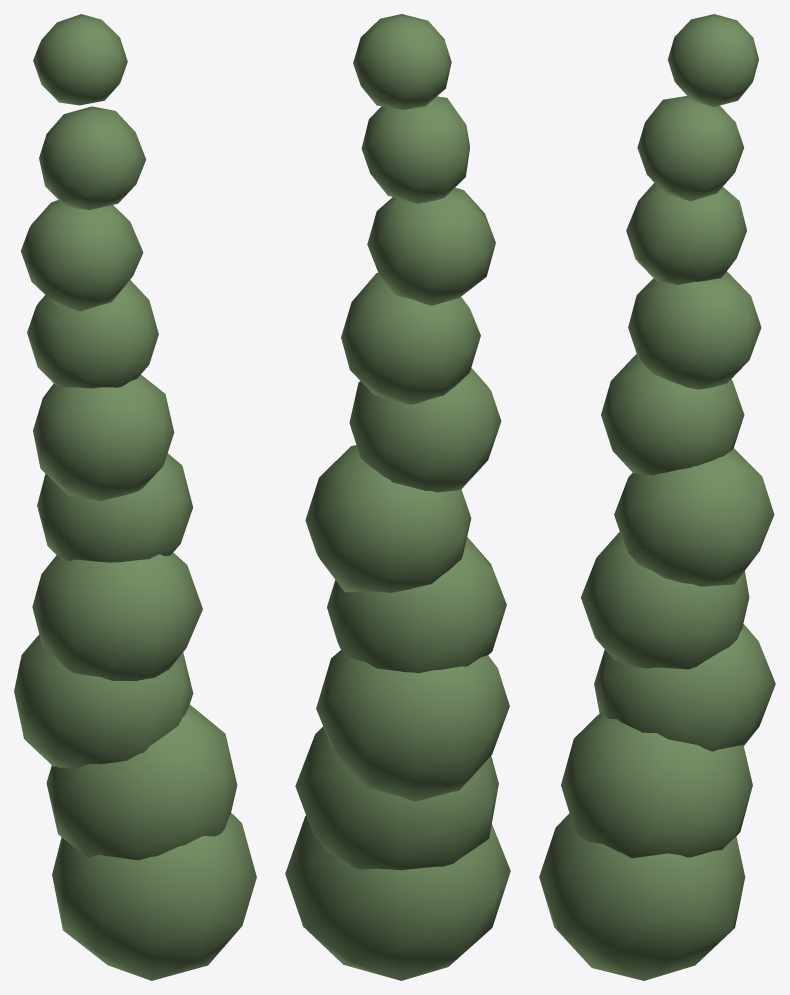
The model's file is NPR_07_2511__MOD__VegetationElements__Perennials__Hollyhock__Var-01__.glb.
The picture shows the model from 3 angles, left to right: view 1: azimuth 30°, elevation 25°; view 2: azimuth 150°, elevation 25°; view 3: azimuth 270°, elevation 25°; orthographic projection. The views are drawn at different scales.
Visible parts, largest first — view 1: NPR_07_2511__MOD__VegetationElements__Perennials__Hollyhock_; view 2: NPR_07_2511__MOD__VegetationElements__Perennials__Hollyhock_; view 3: NPR_07_2511__MOD__VegetationElements__Perennials__Hollyhock_.
Part boxes in pixels (<box>): NPR_07_2511__MOD__VegetationElements__Perennials__Hollyhock_: <box>14,14,256,980</box>; NPR_07_2511__MOD__VegetationElements__Perennials__Hollyhock_: <box>285,14,510,980</box>; NPR_07_2511__MOD__VegetationElements__Perennials__Hollyhock_: <box>539,14,775,980</box>.
Bounding box in the file's own units: 0.4391 × 1.99 × 0.4566.
